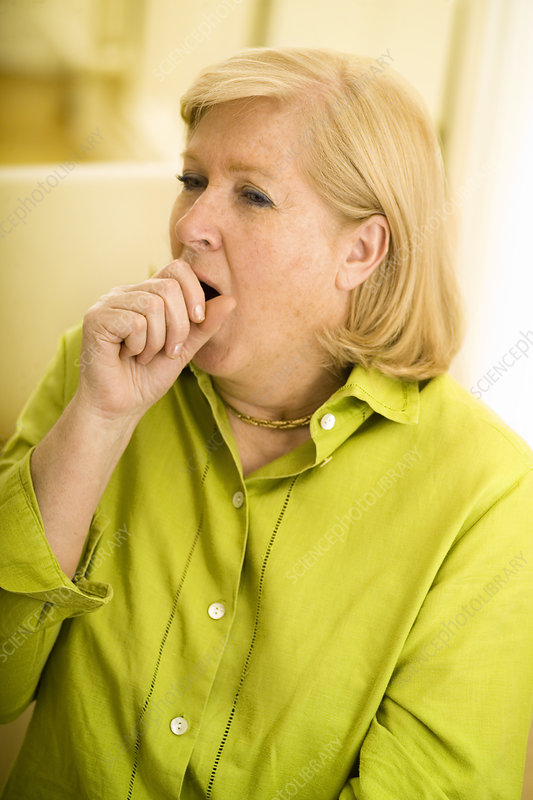human: (1, 37, 533, 800)
